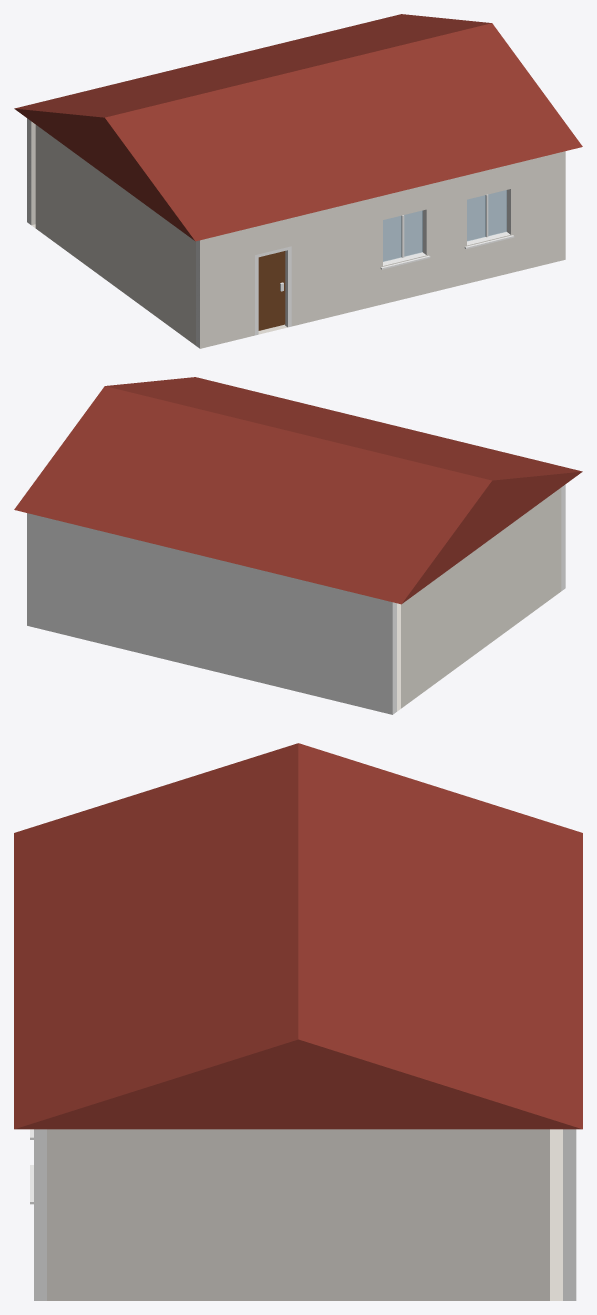
File: Otonom_Ev_Modeli.fbx
3 views of the same model, one above another, from view 1: azimuth 30°, elevation 25°; view 2: azimuth 150°, elevation 25°; view 3: azimuth 270°, elevation 25° (orthographic). The views are drawn at different scales.
Visible parts, largest first — view 1: Cati, Duvarlar, Kapi_Kanadi, Pencere_1, Pencere_2; view 2: Cati, Duvarlar; view 3: Cati, Duvarlar, Otonom_Ev.
Boxes of the visible parts, bbox=[...] form: Cati: bbox=[14, 14, 582, 241]; Duvarlar: bbox=[27, 118, 565, 348]; Kapi_Kanadi: bbox=[255, 246, 291, 335]; Pencere_1: bbox=[380, 210, 430, 269]; Pencere_2: bbox=[464, 190, 514, 249]; Cati: bbox=[14, 377, 582, 604]; Duvarlar: bbox=[27, 484, 565, 714]; Cati: bbox=[14, 743, 582, 1129]; Duvarlar: bbox=[34, 1129, 576, 1300]; Otonom_Ev: bbox=[550, 1129, 562, 1300].
Size of what is drawn, in the model's own units: 10.6 by 4.5 by 8.6.
